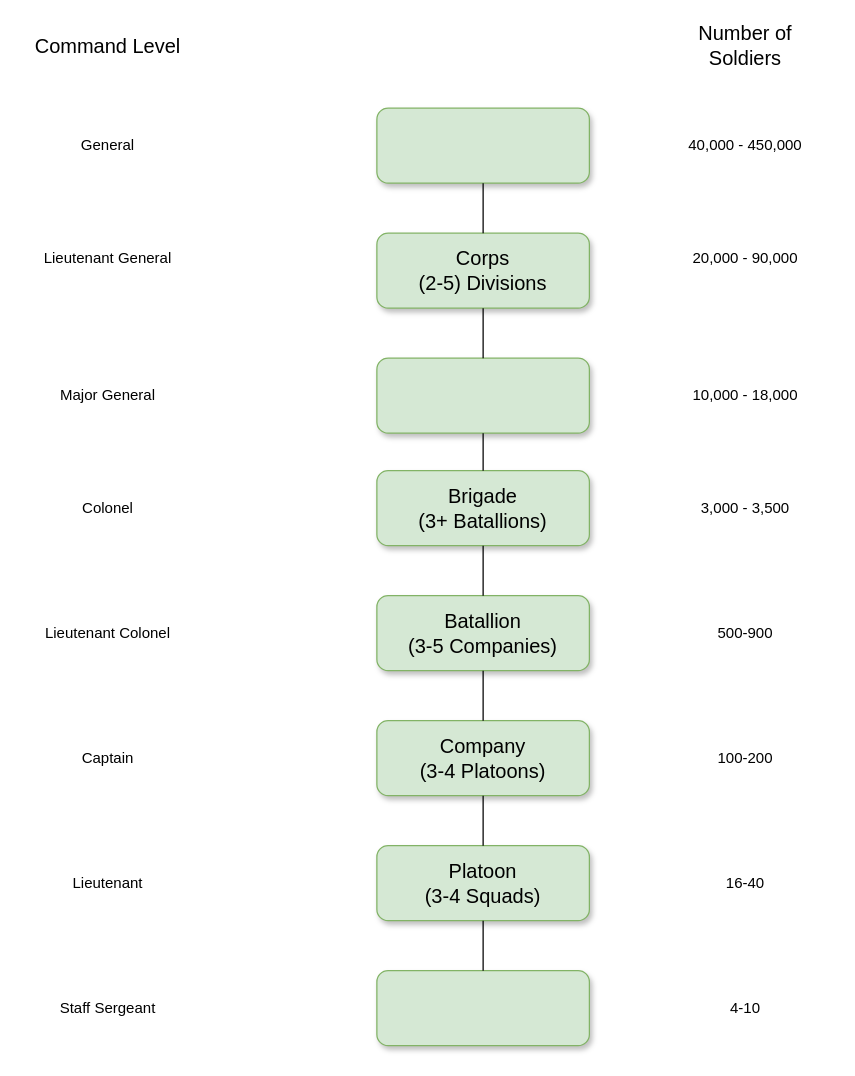
Some shapes in this 855 by 1076 pixel diagram are drawn without their labels. The centre of each missing label's shape, as x and y in pixels:
"Army (2-5) Corps" belongs at point 484,147.
"Division (3 Brigades)" belongs at point 484,397.
"Squad (4-10 Soldiers)" belongs at point 484,1009.
